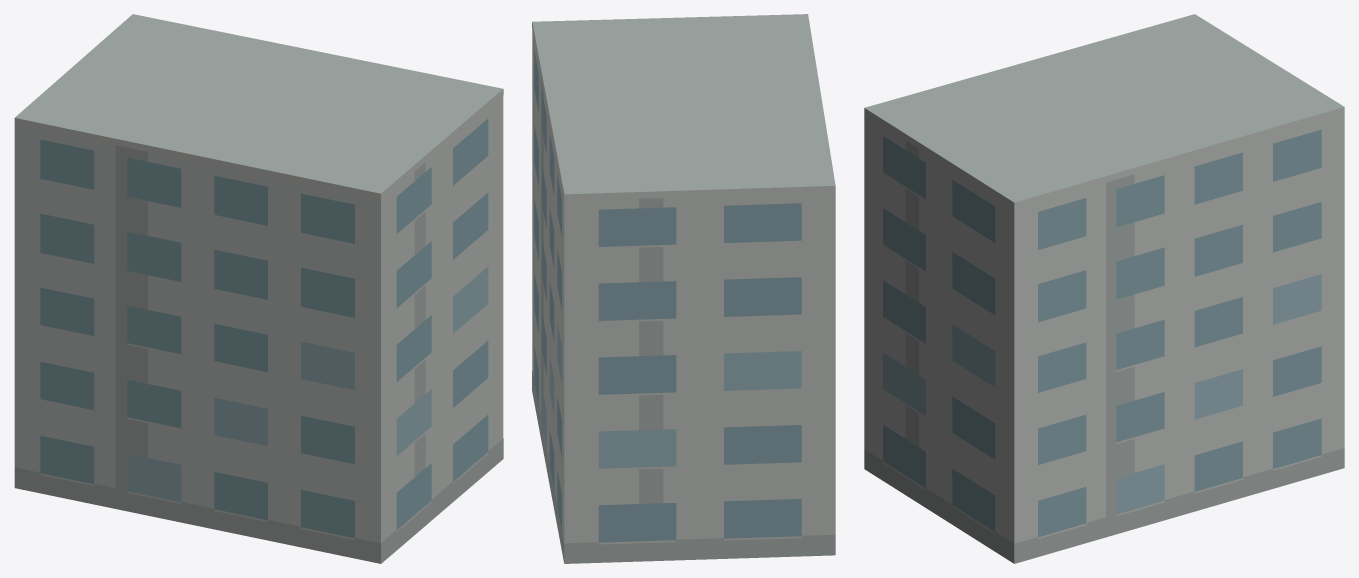
File: survey-upis-32981202.glb
3 renders of one model, left to right at view 1: azimuth 30°, elevation 25°; view 2: azimuth 150°, elevation 25°; view 3: azimuth 270°, elevation 25°, orthographic. The views are drawn at different scales.
Parts seen in each view (by area): view 1: survey-upis-32981202.tmp; view 2: survey-upis-32981202.tmp; view 3: survey-upis-32981202.tmp.
Part boxes in pixels (box(x1,y1,x2,y2)): survey-upis-32981202.tmp: box(14, 14, 503, 563); survey-upis-32981202.tmp: box(532, 14, 835, 563); survey-upis-32981202.tmp: box(864, 14, 1344, 563).
Bounding box in the file's own units: 15.38 × 13.72 × 16.55.
